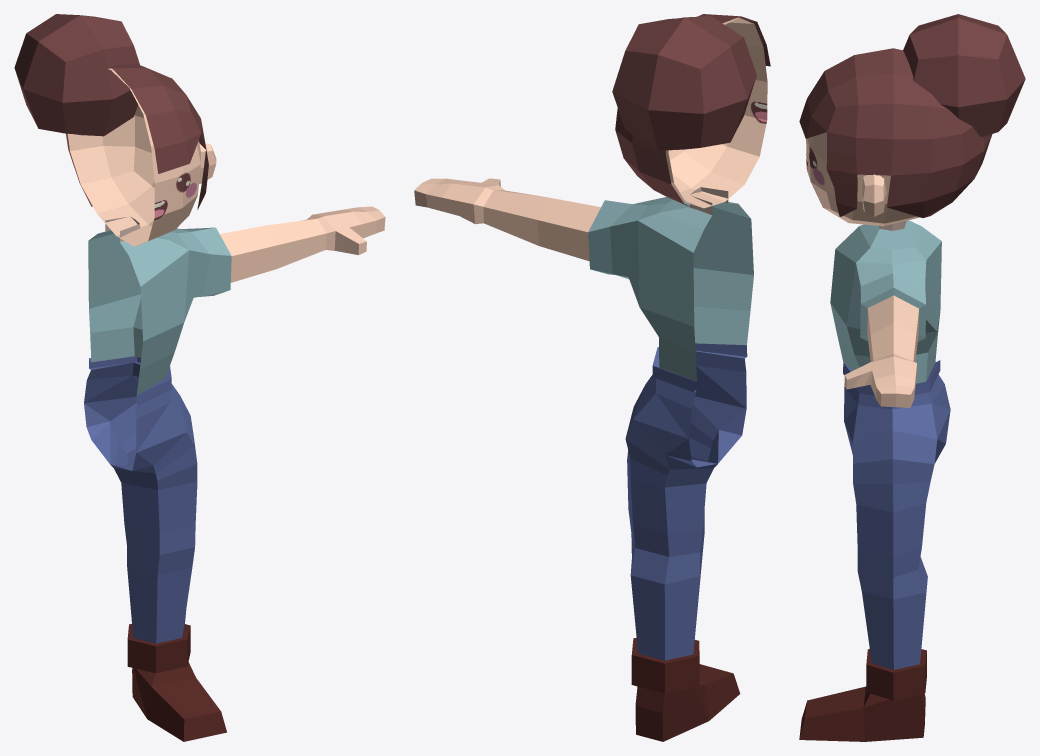
Rendered from characterLowPoly.glb.
3 views of the same model, side by side, from view 1: azimuth 30°, elevation 25°; view 2: azimuth 150°, elevation 25°; view 3: azimuth 270°, elevation 25° (orthographic). The views are drawn at different scales.
Parts seen in each view (by area): view 1: Cylinder, Cube.002, Cube, Cube.001; view 2: Cylinder, Cube.002, Cube, Cube.001; view 3: Cylinder, Cube.001, Cube.002, Cube, Cube.003.
Boxes of the visible parts, x1,y1,x2,y2 form: Cylinder: (84,206,385,741); Cube.002: (14,14,139,136); Cube: (67,68,200,246); Cube.001: (66,64,208,209); Cylinder: (414,178,753,741); Cube.002: (612,16,756,150); Cube: (666,17,767,208); Cube.001: (615,14,770,209); Cylinder: (799,220,950,741); Cube.001: (799,48,992,217); Cube.002: (903,14,1025,137); Cube: (806,132,919,226); Cube.003: (862,174,886,216).
Bounding box in the file's own units: 2.56 × 5.09 × 1.51.
1 material, 1 textured.
